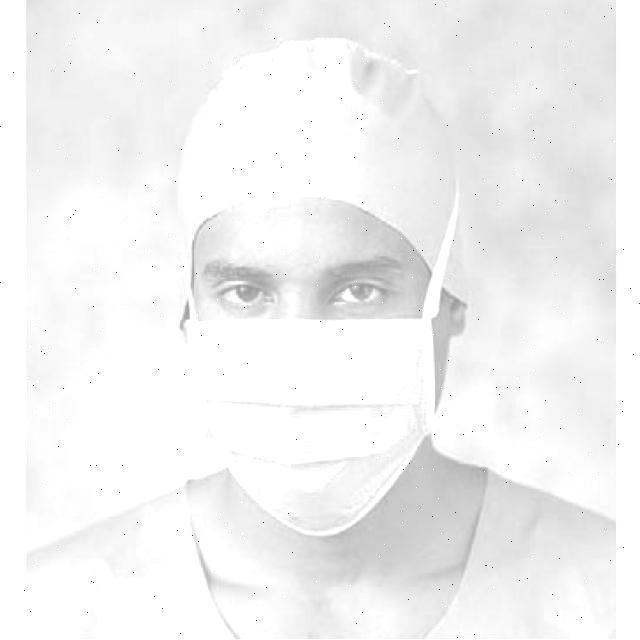fake: (182, 315, 440, 541)
real: (183, 194, 452, 543)
